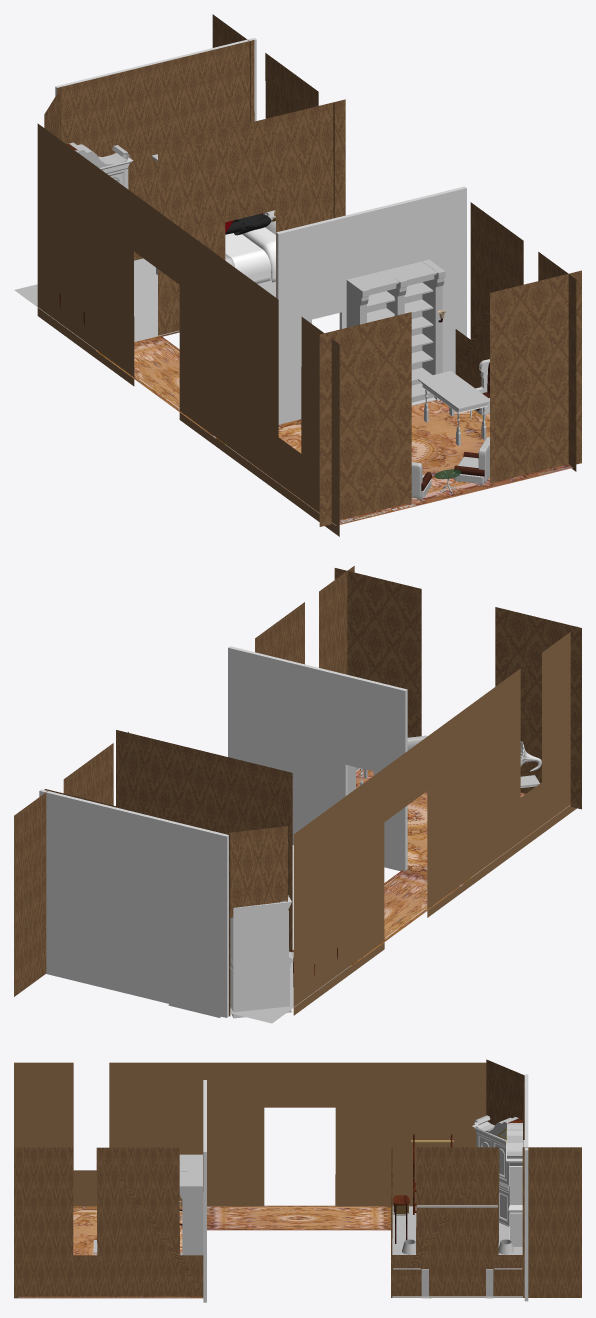
Rendered from ROOM_WITHOUT_BATH.fbx.
3 renders of one model, top to bottom at view 1: azimuth 30°, elevation 25°; view 2: azimuth 150°, elevation 25°; view 3: azimuth 270°, elevation 25°, orthographic. The views are drawn at different scales.
Parts seen in each view (by area): view 1: Cube.715, Cube.934, Cube.734, Cube.699, Cube.927, Cube.935, Cube.932, Plane.105, Cube.717, Plane.000, Plane.103, Plane (+4 smaller); view 2: Cube.715, Cube.680, Cube.699, Cube.934, Cube.734, Cube.717, Cube.006, Cube.935, Cube.926, Plane.000, Plane.105, Plane.103 (+1 smaller); view 3: Cube.715, Cube.935, Cube.717, Plane.000, Cube.932, Cube.926, Plane.105, Plane.103, Cube.007, Cube.006, Cube.680, Cube.699 (+3 smaller).
Part boxes in pixels (left/top/right/bottom): Cube.715: left=37, top=123, right=339, bottom=536; Cube.934: left=319, top=270, right=581, bottom=526; Cube.734: left=158, top=99, right=345, bottom=336; Cube.699: left=276, top=186, right=466, bottom=424; Cube.927: left=57, top=40, right=254, bottom=260; Cube.935: left=455, top=202, right=576, bottom=471; Cube.932: left=346, top=259, right=445, bottom=405; Plane.105: left=217, top=400, right=572, bottom=525; Cube.717: left=212, top=14, right=334, bottom=218; Plane.000: left=96, top=335, right=216, bottom=438; Plane.103: left=14, top=258, right=275, bottom=350; Plane: left=225, top=227, right=275, bottom=283; Cube.715: left=293, top=626, right=577, bottom=1015; Cube.680: left=39, top=789, right=228, bottom=1017; Cube.699: left=228, top=646, right=407, bottom=871; Cube.934: left=334, top=568, right=581, bottom=809; Cube.734: left=116, top=730, right=292, bottom=952; Cube.717: left=14, top=732, right=128, bottom=996; Cube.006: left=230, top=895, right=293, bottom=1018; Cube.935: left=255, top=566, right=354, bottom=674; Cube.926: left=225, top=826, right=287, bottom=917; Plane.000: left=292, top=870, right=463, bottom=966; Plane.105: left=356, top=769, right=570, bottom=883; Plane.103: left=230, top=951, right=350, bottom=1023; Cube.715: left=14, top=1062, right=486, bottom=1206; Cube.935: left=14, top=1147, right=203, bottom=1298; Cube.717: left=391, top=1147, right=581, bottom=1297; Plane.000: left=207, top=1205, right=390, bottom=1230; Cube.932: left=179, top=1154, right=203, bottom=1255; Cube.926: left=486, top=1059, right=524, bottom=1139; Plane.105: left=18, top=1206, right=203, bottom=1297; Plane.103: left=392, top=1206, right=522, bottom=1297; Cube.007: left=506, top=1140, right=524, bottom=1246; Cube.006: left=472, top=1125, right=509, bottom=1226; Cube.680: left=524, top=1074, right=528, bottom=1301; Cube.699: left=203, top=1080, right=206, bottom=1302.
Size of the model in its own units: 399 by 291 by 956.
